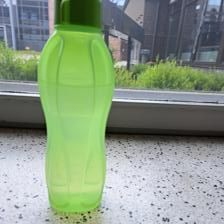bottle: (41, 0, 123, 215)
